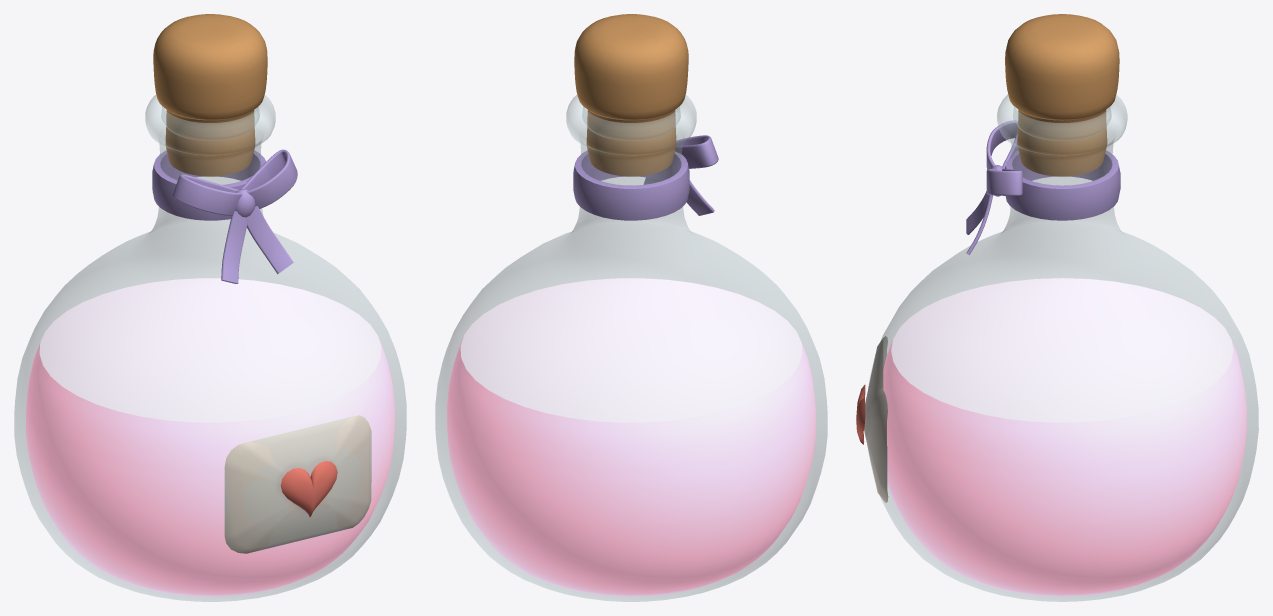
File: potion-bottle.glb
The picture shows the model from 3 angles, left to right: view 1: azimuth 30°, elevation 25°; view 2: azimuth 150°, elevation 25°; view 3: azimuth 270°, elevation 25°; orthographic projection.
Parts seen in each view (by area): view 1: potion-bottle_glass, potion-bottle_potion, potion-bottle_body; view 2: potion-bottle_glass, potion-bottle_potion, potion-bottle_body; view 3: potion-bottle_glass, potion-bottle_potion, potion-bottle_body.
Boxes of the visible parts, left/top/right/bottom form: potion-bottle_glass: left=14, top=95, right=406, bottom=601; potion-bottle_potion: left=26, top=278, right=394, bottom=596; potion-bottle_body: left=152, top=14, right=371, bottom=553; potion-bottle_glass: left=435, top=95, right=827, bottom=601; potion-bottle_potion: left=447, top=278, right=815, bottom=596; potion-bottle_body: left=573, top=14, right=718, bottom=220; potion-bottle_glass: left=866, top=94, right=1258, bottom=601; potion-bottle_potion: left=883, top=278, right=1246, bottom=596; potion-bottle_body: left=856, top=14, right=1120, bottom=502.
Size of the model in its own units: 0.134 by 0.1997 by 0.1373.
Materials: 3 (1 with a texture image).
